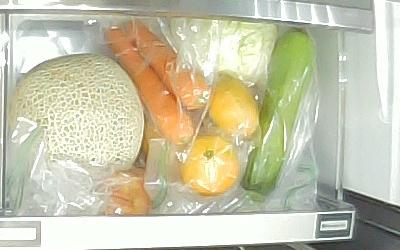cabbage: (169, 18, 278, 84)
carrot_vinyl: (103, 25, 194, 145), (121, 17, 209, 111)
melon: (10, 53, 144, 178)
prune_vinyl: (106, 169, 149, 217)
tangerine_vinyl: (180, 134, 240, 196), (207, 78, 261, 140)
zucchini_vinyl: (239, 28, 316, 203)
